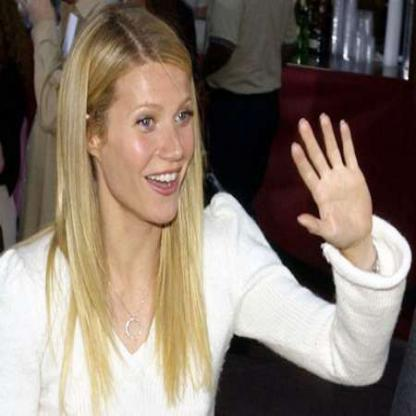face: (96, 15, 202, 234)
